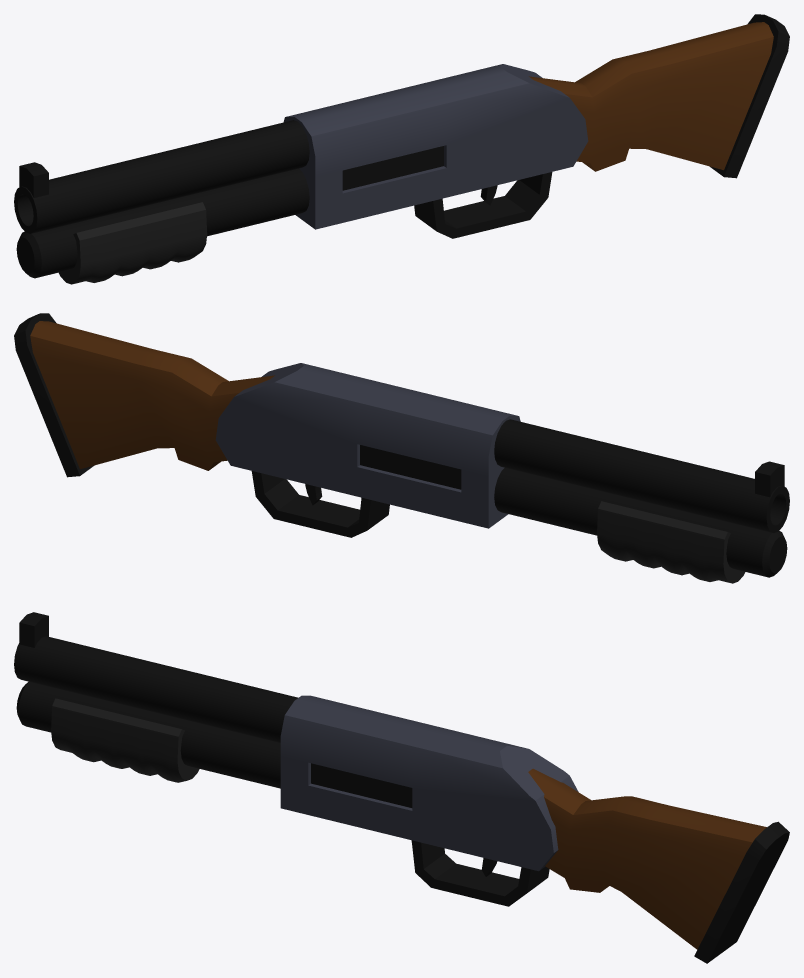
File: Shotgun.obj
3 renders of one model, top to bottom at view 1: azimuth 30°, elevation 25°; view 2: azimuth 150°, elevation 25°; view 3: azimuth 330°, elevation 25°, orthographic.
Parts seen in each view (by area): view 1: Shotgun_Cube.283; view 2: Shotgun_Cube.283; view 3: Shotgun_Cube.283.
Boxes of the visible parts, x1,y1,x2,y2 form: Shotgun_Cube.283: (14,14,789,284); Shotgun_Cube.283: (14,313,789,583); Shotgun_Cube.283: (14,612,789,963).
Size of the model in its own units: 1.55 by 0.3308 by 0.1224.
